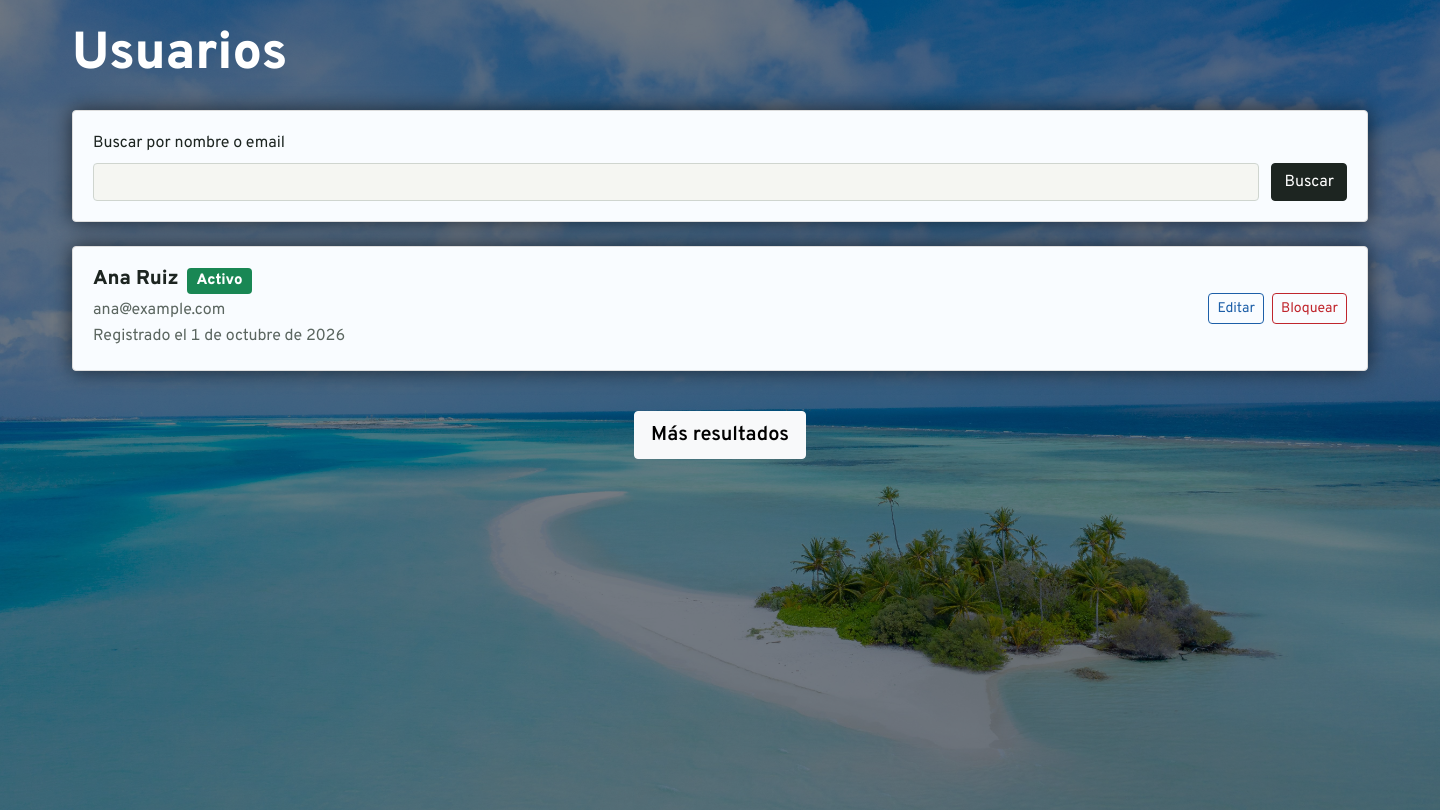
B7 AdminUsersPage list and search › "Más resultados" loads the next page after the first
expect the heading "Ana Ruiz Activo" is shown: met, box [93, 266, 252, 294]
Click the button "Más resultados" at [720, 435], box [634, 411, 806, 459]
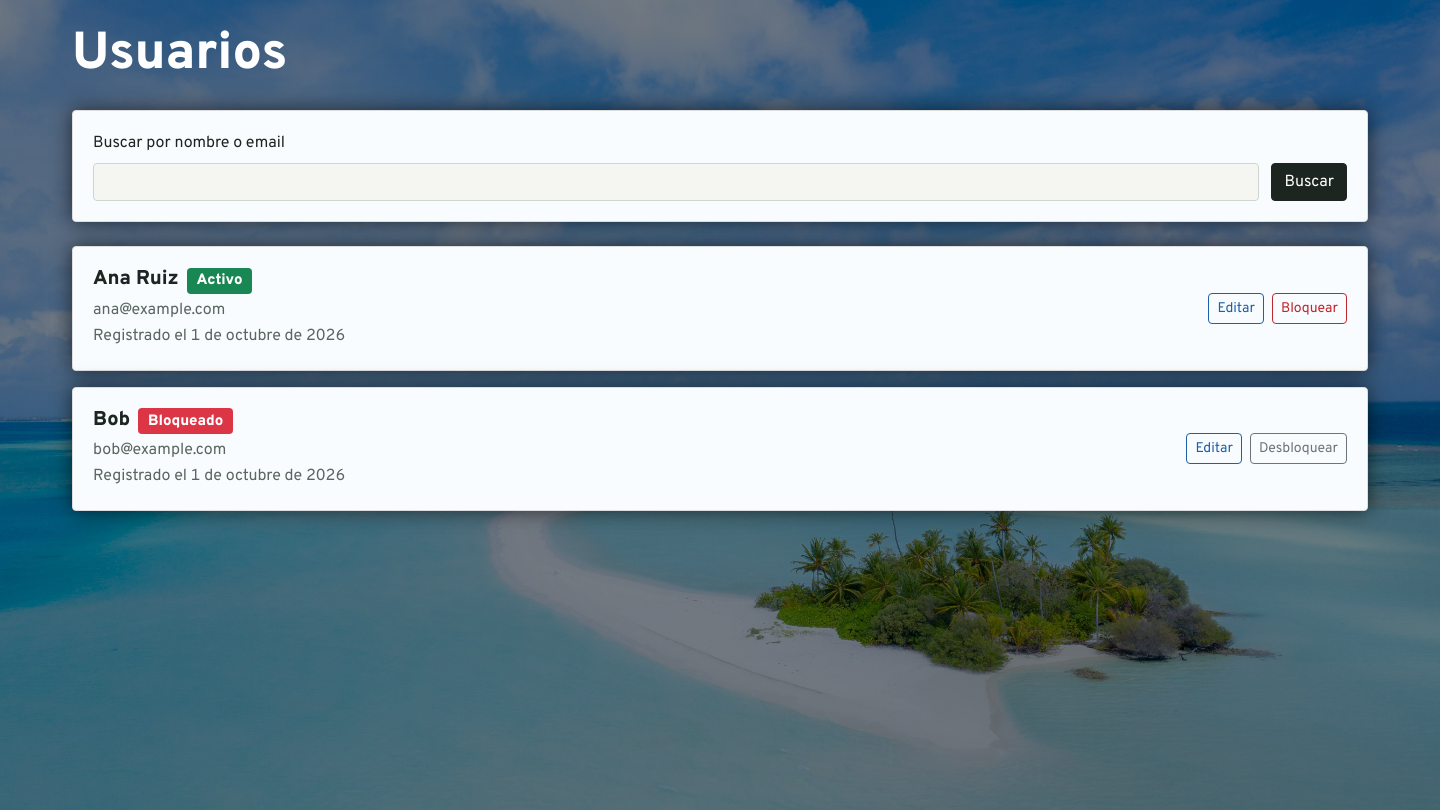
expect the heading "Ana Ruiz Activo" is shown: met, box [93, 266, 252, 294]
expect the heading "Bob Bloqueado" is shown: met, box [93, 407, 233, 434]
expect the button "Más resultados" is gone: met
